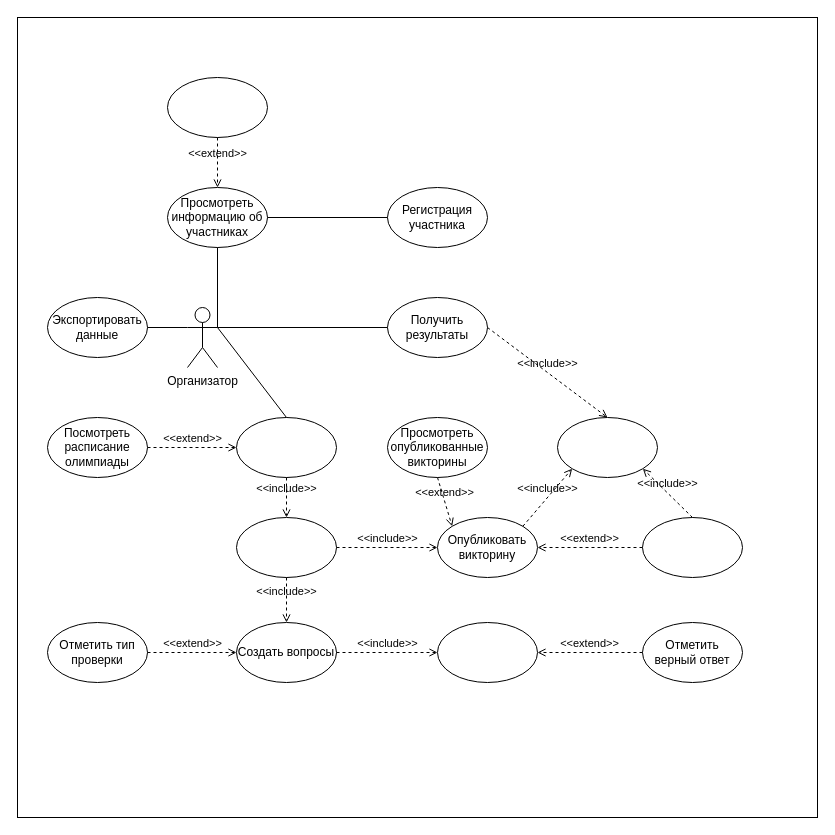
This 835x835 diagram has some shape labels left out. Here are the shapes that lost their labels. From the top down, the centre of each, then its label:
At [217,107]: "Удалить участника".
At [286,447]: "Создать олимпиаду".
At [607,447]: "Активировать викторину".
At [286,547]: "Создать викторину".
At [692,547]: "Опубликовать викторину перед олимпиадой".
At [487,652]: "Создать ответы".
